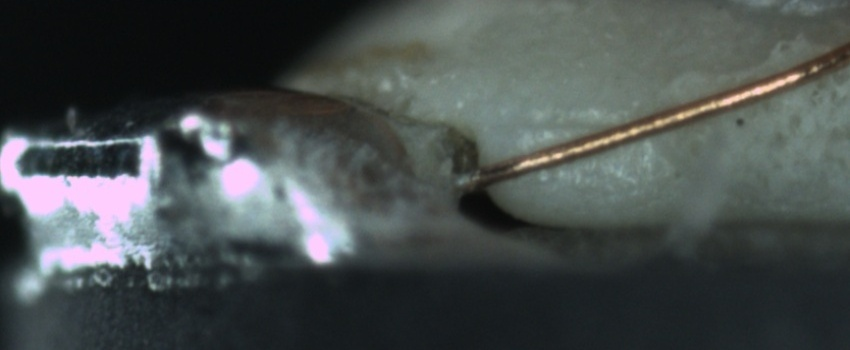DL: (514, 99, 634, 151)
